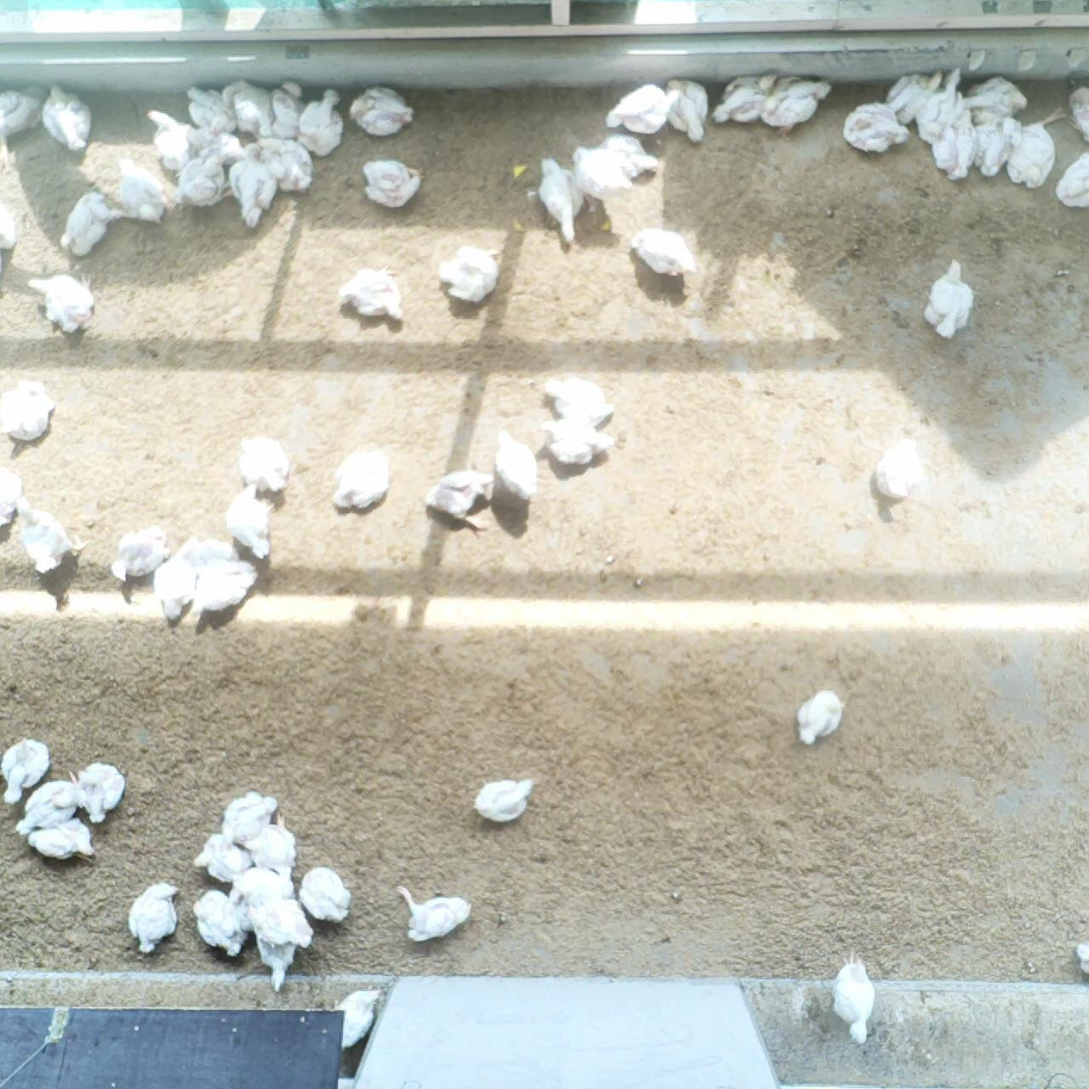chicken: (238, 901, 322, 984), (9, 501, 96, 577), (999, 113, 1076, 193), (185, 543, 266, 618), (392, 882, 476, 952), (916, 257, 983, 344), (824, 951, 884, 1046), (540, 368, 623, 436), (528, 156, 594, 241), (531, 413, 622, 473), (134, 105, 206, 180), (759, 70, 841, 134), (58, 189, 125, 263), (869, 435, 934, 511), (146, 543, 203, 629), (920, 63, 982, 142), (488, 426, 548, 507), (927, 113, 988, 190), (326, 446, 398, 510), (18, 817, 110, 867), (225, 148, 280, 231), (611, 82, 680, 148), (425, 468, 504, 524), (2, 373, 58, 452), (25, 271, 94, 334), (322, 993, 402, 1047), (3, 738, 62, 811), (193, 887, 251, 961), (663, 77, 721, 150), (40, 76, 96, 151), (223, 482, 278, 558), (592, 127, 664, 184), (167, 154, 230, 219), (441, 239, 502, 305), (112, 163, 169, 233), (847, 104, 919, 159), (711, 73, 783, 128), (335, 265, 408, 319), (959, 73, 1033, 126), (627, 225, 699, 279), (358, 155, 430, 209), (125, 881, 182, 949), (887, 65, 949, 127), (110, 523, 167, 590), (256, 135, 321, 193), (346, 88, 414, 142), (236, 870, 304, 923), (792, 687, 852, 747), (231, 432, 293, 490), (191, 836, 256, 890), (14, 777, 88, 824), (568, 146, 628, 203), (222, 79, 276, 142), (185, 83, 242, 139), (219, 790, 278, 844), (75, 763, 130, 820), (298, 867, 351, 925), (475, 779, 541, 824), (978, 115, 1023, 178), (198, 128, 265, 168), (1, 450, 31, 539), (248, 825, 295, 879), (1, 82, 40, 146), (304, 91, 343, 151), (1061, 140, 1089, 219), (269, 79, 304, 140), (1068, 87, 1089, 142), (1, 206, 18, 255), (1070, 942, 1089, 983)
